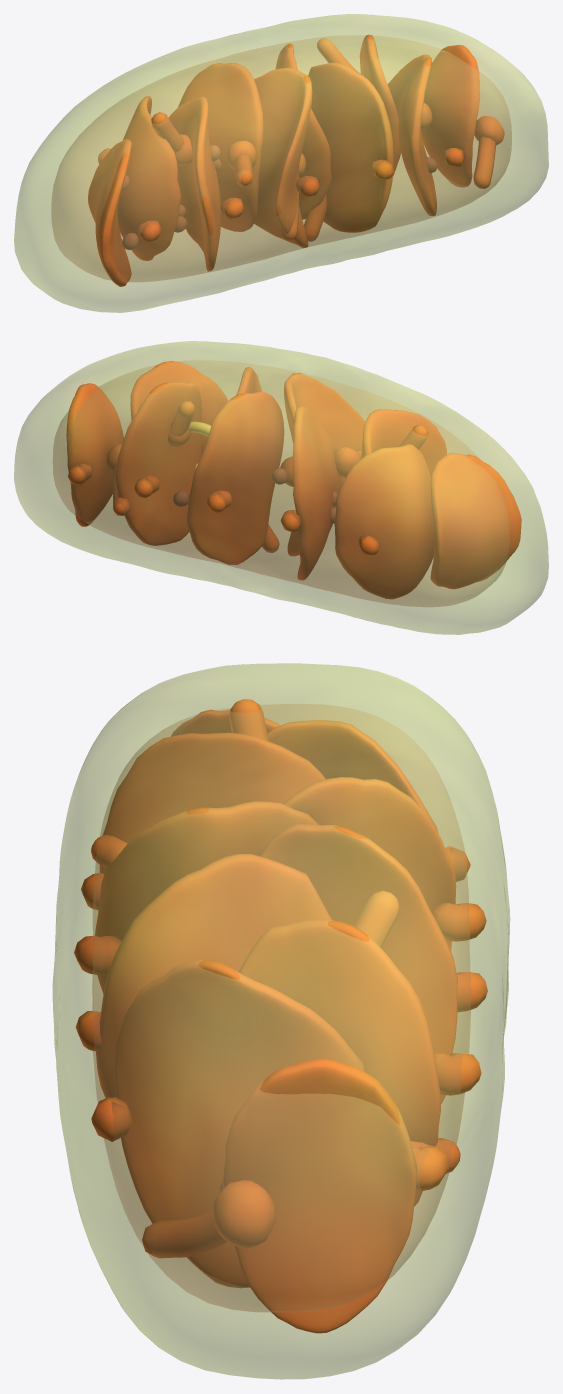
The model's file is mitochondrion.glb.
3 views of the same model, one above another, from view 1: azimuth 30°, elevation 25°; view 2: azimuth 150°, elevation 25°; view 3: azimuth 270°, elevation 25° (orthographic). The views are drawn at different scales.
Visible parts, largest first — view 1: mitochondrion-outer, mitochondrion-inner, mitochondrion-cristae, mitochondrion-matrix; view 2: mitochondrion-outer, mitochondrion-inner, mitochondrion-cristae, mitochondrion-matrix; view 3: mitochondrion-outer, mitochondrion-inner, mitochondrion-cristae.
Boxes of the visible parts, x1,y1,x2,y2 form: mitochondrion-outer: [14, 14, 548, 312]; mitochondrion-inner: [51, 35, 511, 281]; mitochondrion-cristae: [88, 34, 504, 286]; mitochondrion-matrix: [122, 145, 437, 249]; mitochondrion-outer: [14, 341, 548, 634]; mitochondrion-inner: [53, 360, 509, 606]; mitochondrion-cristae: [66, 361, 521, 599]; mitochondrion-matrix: [173, 421, 348, 523]; mitochondrion-outer: [52, 663, 510, 1379]; mitochondrion-inner: [92, 704, 470, 1312]; mitochondrion-cristae: [74, 699, 487, 1333].
Size of what is drawn, in the model's own units: 3.21 by 1.27 by 1.26.
